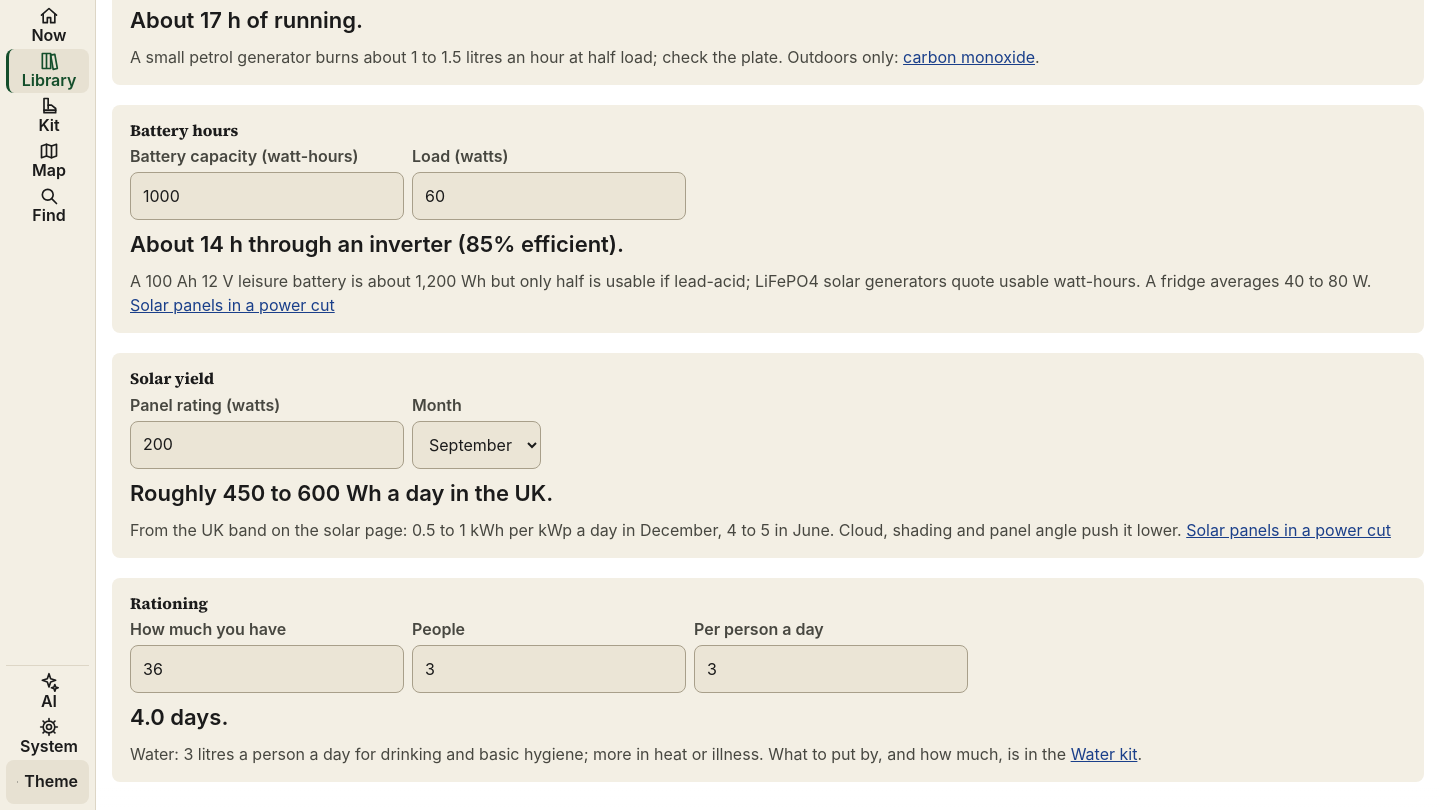
Test: Calculators › computes from the defaults and refuses zero
(page scrolled)
expect the element "Generator runtime" shows "About 17 h of running.": met, box 130,7 -> 363,33
expect the element "Battery hours" shows "About 14 h through an inverter": met, box 130,231 -> 624,257
Clear the number field labelled "People": (549, 669) 412,645 -> 686,693
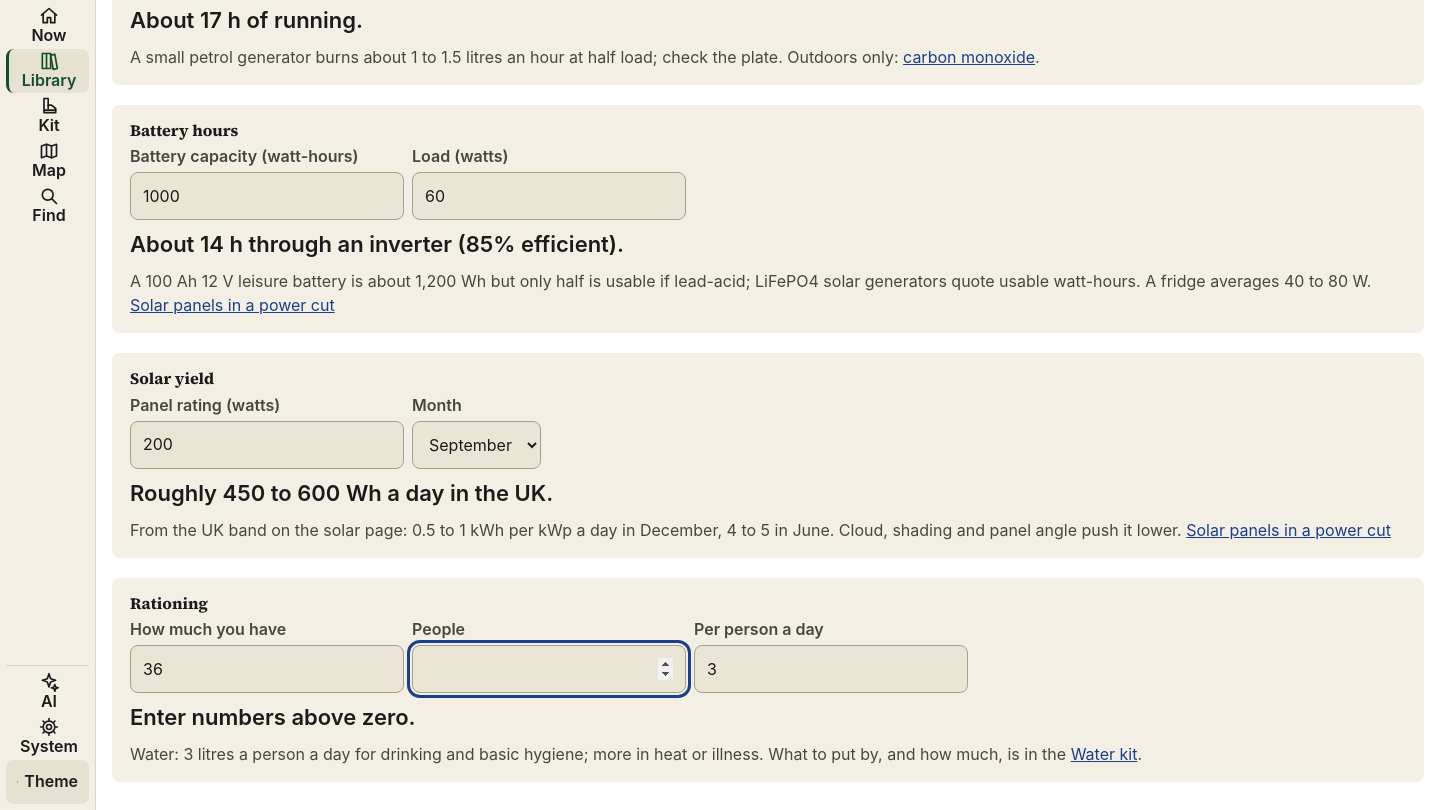
expect the element "Rationing" shows "Enter numbers above zero.": met, box 130,704 -> 416,730
